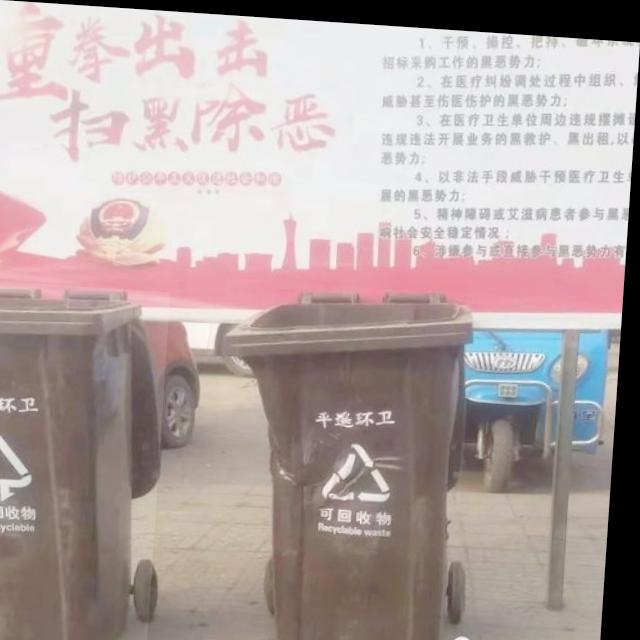garbage_bin: (211, 275, 478, 640), (0, 280, 174, 640)
